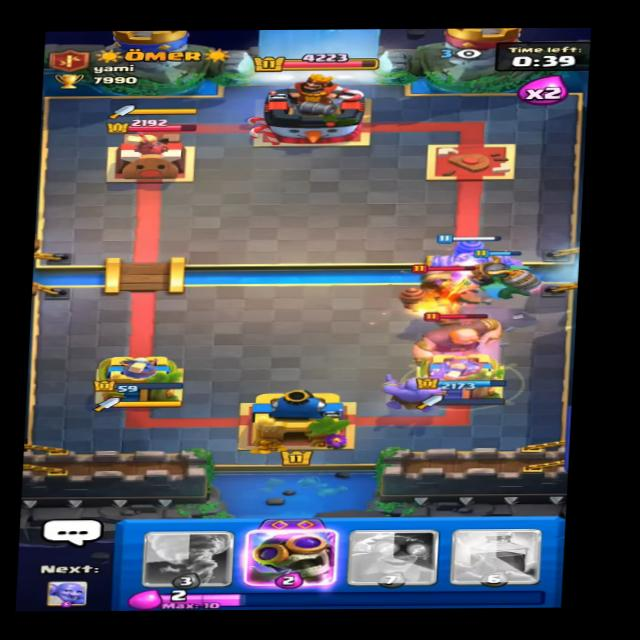giant: (407, 306, 505, 360)
goblin-machine: (385, 274, 489, 320)
